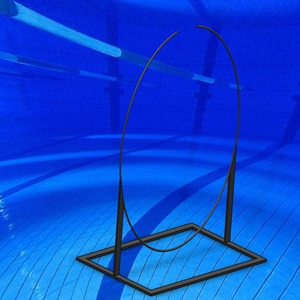circle: (75, 24, 268, 296)
